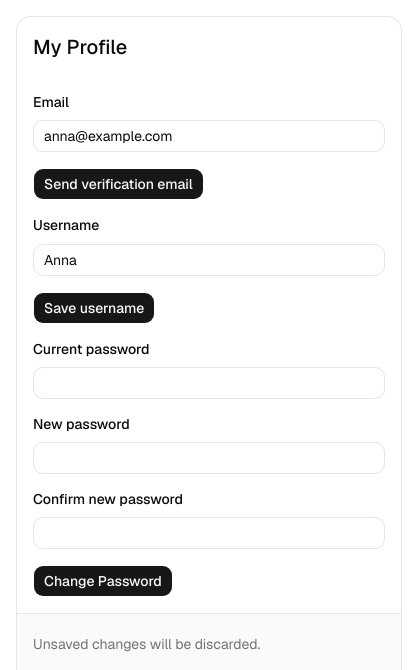
Test case: refreshes the token and saves the verified Firebase email before reporting success
Expected: the field labelled "Username" holds "Anna", 33,244 -> 385,276
Replace the text in the field labelled "Email" with "new@example.com" at (209, 136), box 33,120 -> 385,152
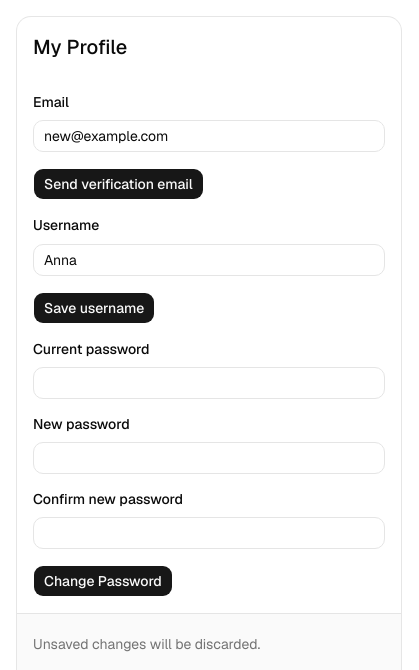
Click the button "Send verification email" at (118, 184), box 33,168 -> 204,200
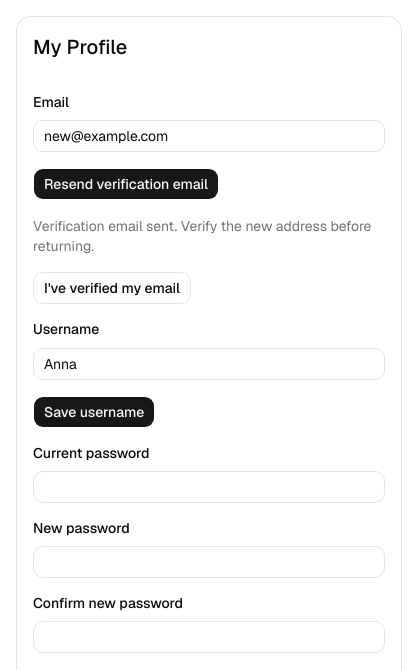
Now the button "I've verified my email" is shown
Click the button "I've verified my email" at (112, 288), box 33,272 -> 191,304
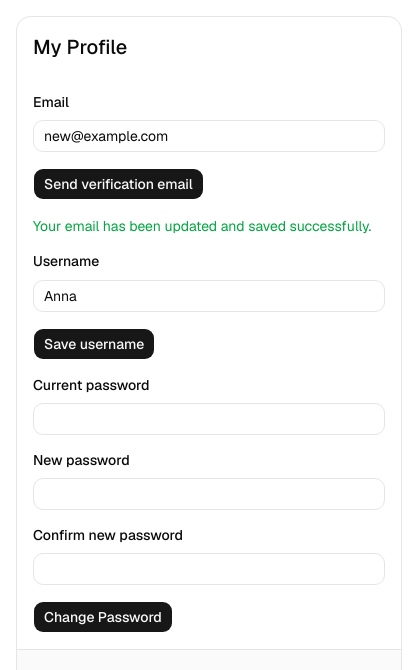
Now the text "Your email has been updated and saved successfully." is shown, box 33,216 -> 385,236
Now the button "I've verified my email" is gone
